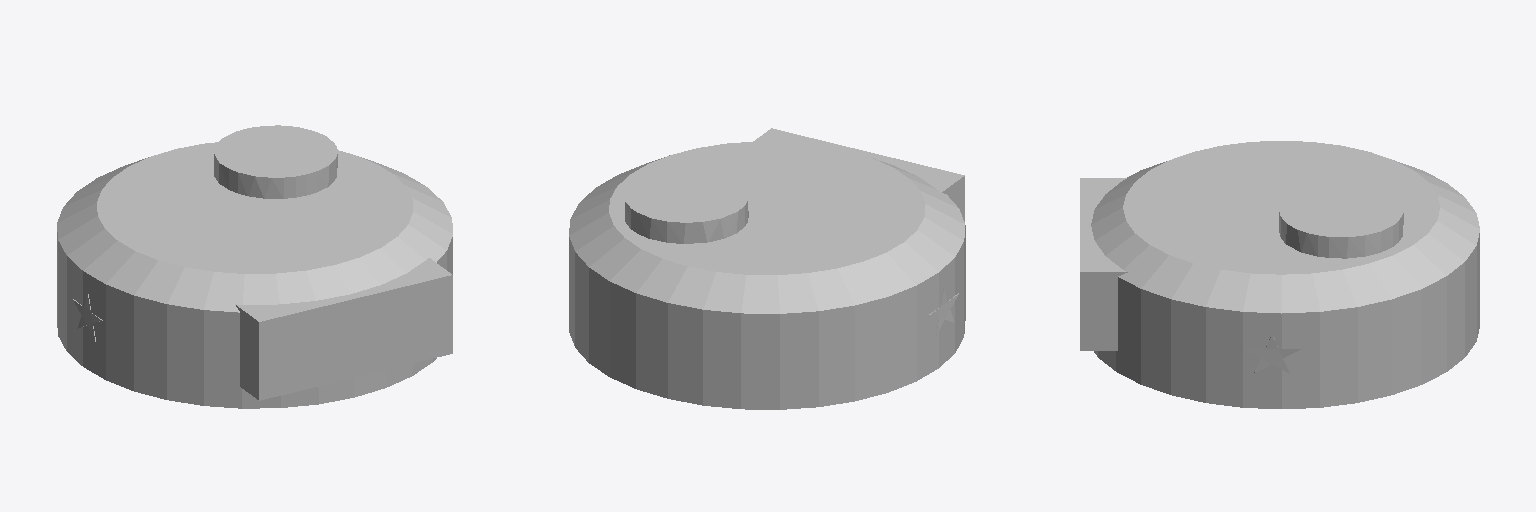
Rendered from ShermanTurret.obj.
3 views of the same model, side by side, from view 1: azimuth 30°, elevation 25°; view 2: azimuth 150°, elevation 25°; view 3: azimuth 270°, elevation 25° (orthographic).
Visible parts, largest first — view 1: 円柱, 立方体.024_立方体.005, 円柱.001; view 2: 円柱, 円柱.001, 立方体.024_立方体.005; view 3: 円柱, 円柱.001, 立方体.024_立方体.005, 円柱.005.
Boxes of the visible parts, box(x1,y1,x2,y2) form: 円柱: box(57, 142, 452, 408); 立方体.024_立方体.005: box(235, 258, 452, 400); 円柱.001: box(214, 125, 337, 198); 円柱: box(569, 141, 965, 409); 円柱.001: box(625, 170, 748, 243); 立方体.024_立方体.005: box(753, 128, 964, 221); 円柱: box(1091, 141, 1479, 408); 円柱.001: box(1279, 185, 1403, 258); 立方体.024_立方体.005: box(1080, 178, 1127, 350); 円柱.005: box(1243, 335, 1300, 373).
Size of the model in its own units: 3.23 by 1.24 by 3.23.